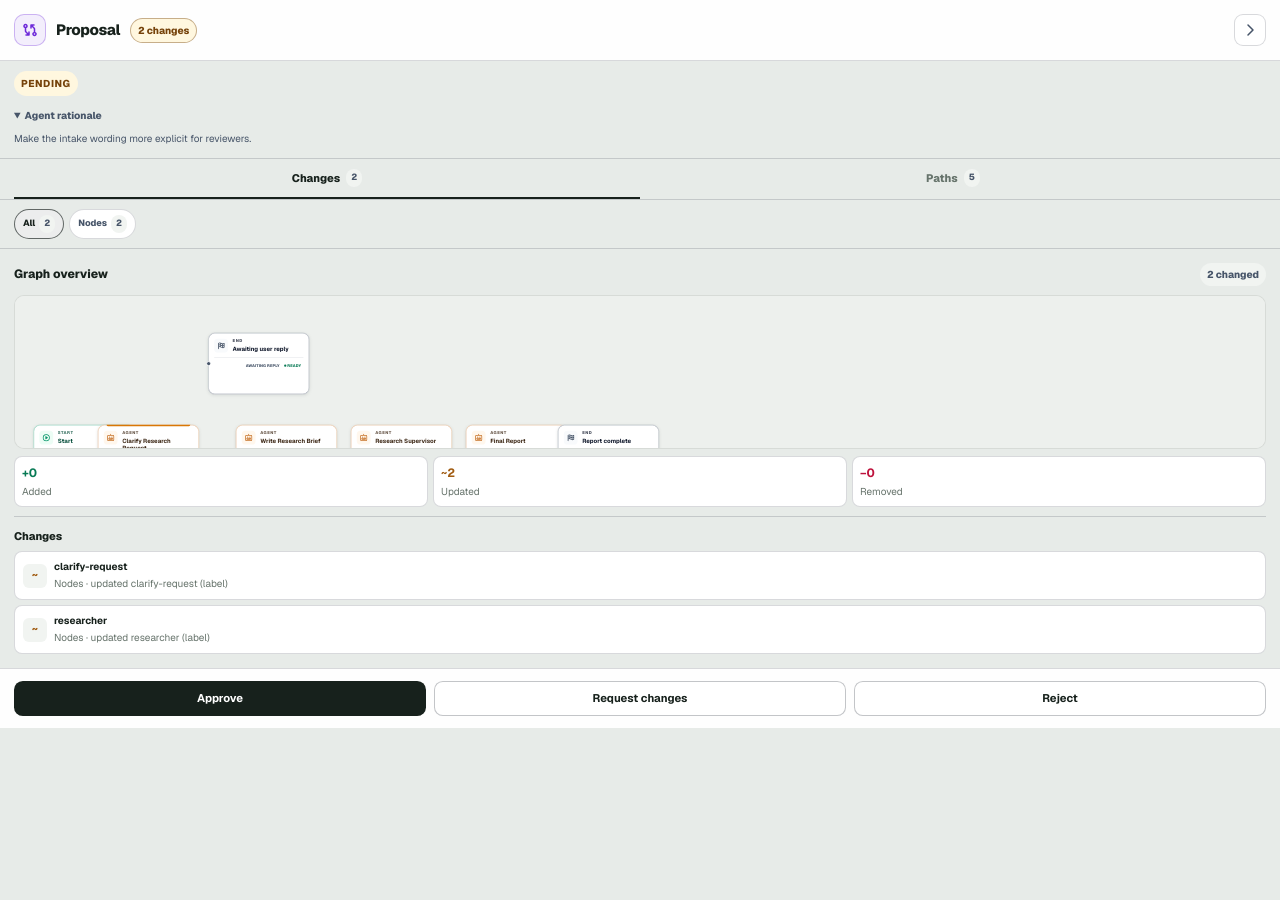
Test: ProposalPanel overview › opens an ordered change detail, presents Before to After, and restores row focus on Back
This screenshot has width=1280, height=900.
Click the button named "Review updated clarify-request" at (91, 567), box x1=14 y1=551 x2=1266 y2=600
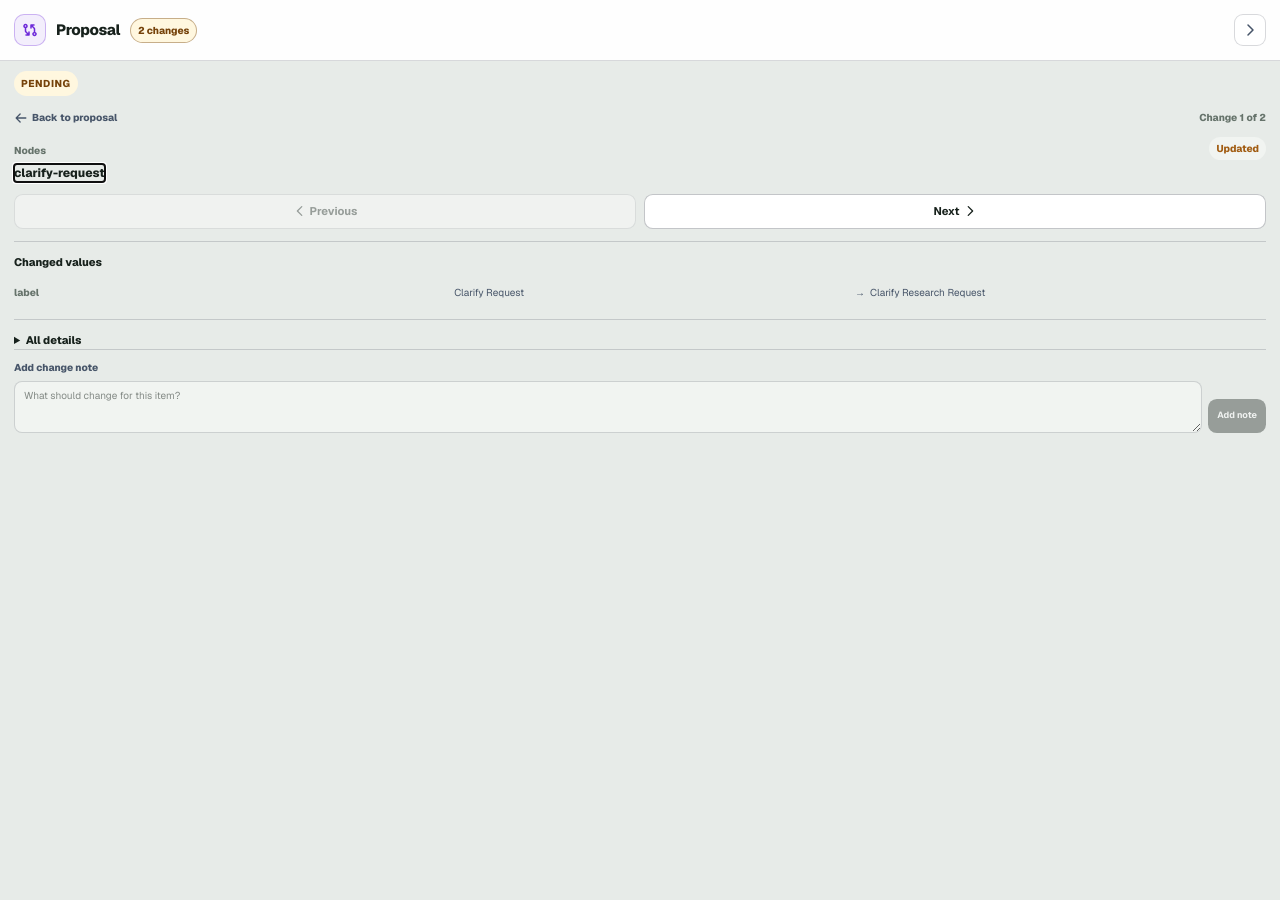
Expected: the text "Change 1 of 2" is shown, x1=1199 y1=110 x2=1266 y2=125
Expected: the element named "Before: Clarify Request. After: Clarify Research Request" is shown, x1=454 y1=286 x2=985 y2=299
Expected: the button "Approve" is gone
Click the button named "Next change" at (955, 211), box x1=644 y1=194 x2=1266 y2=229
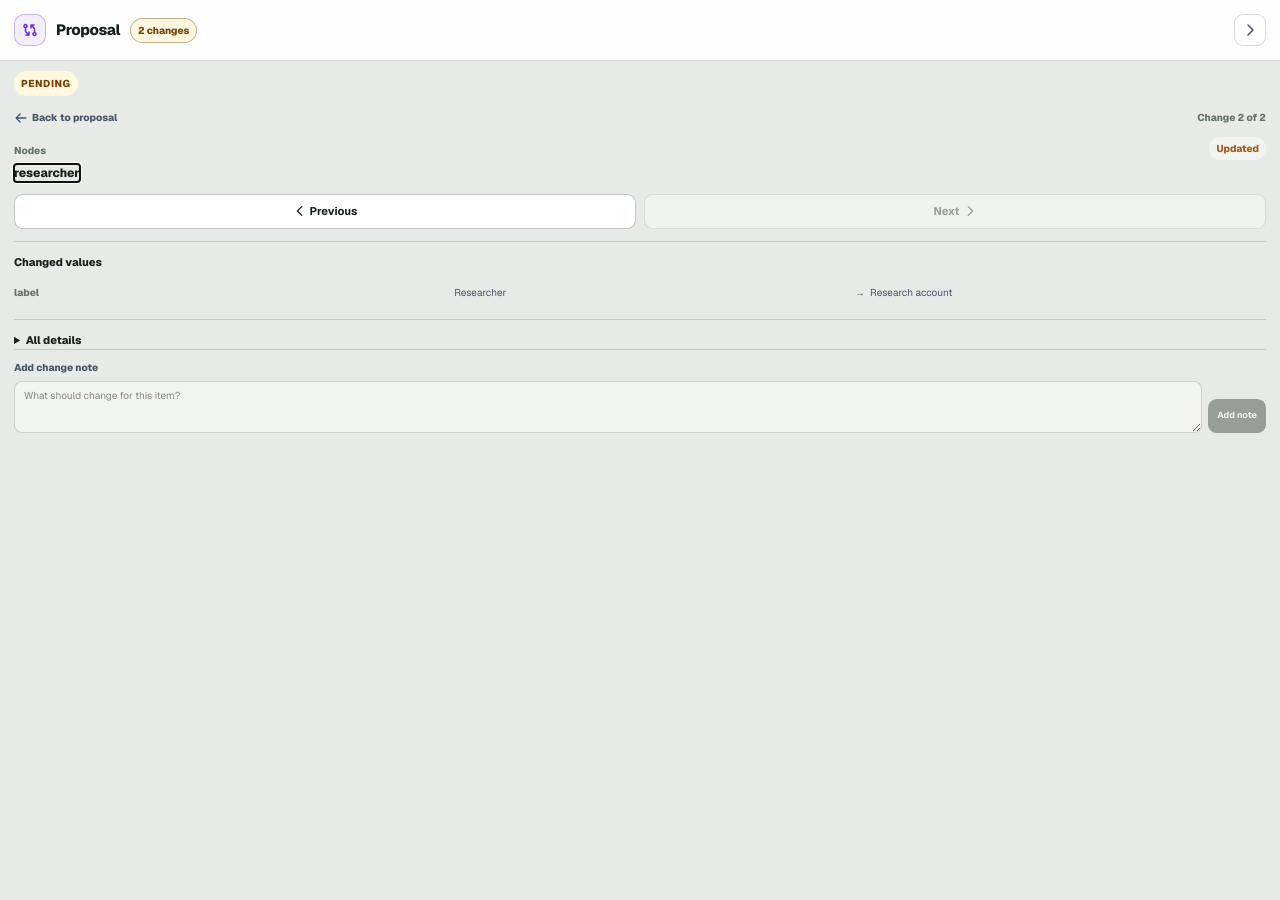
Expected: the heading "researcher" is shown, x1=14 y1=164 x2=80 y2=182
Expected: the button named "Next change" is disabled, x1=644 y1=194 x2=1266 y2=229
Expected: the button named "Previous change" is enabled, x1=14 y1=194 x2=636 y2=229
Click the button "Back to proposal" at (66, 118), box x1=14 y1=110 x2=117 y2=125
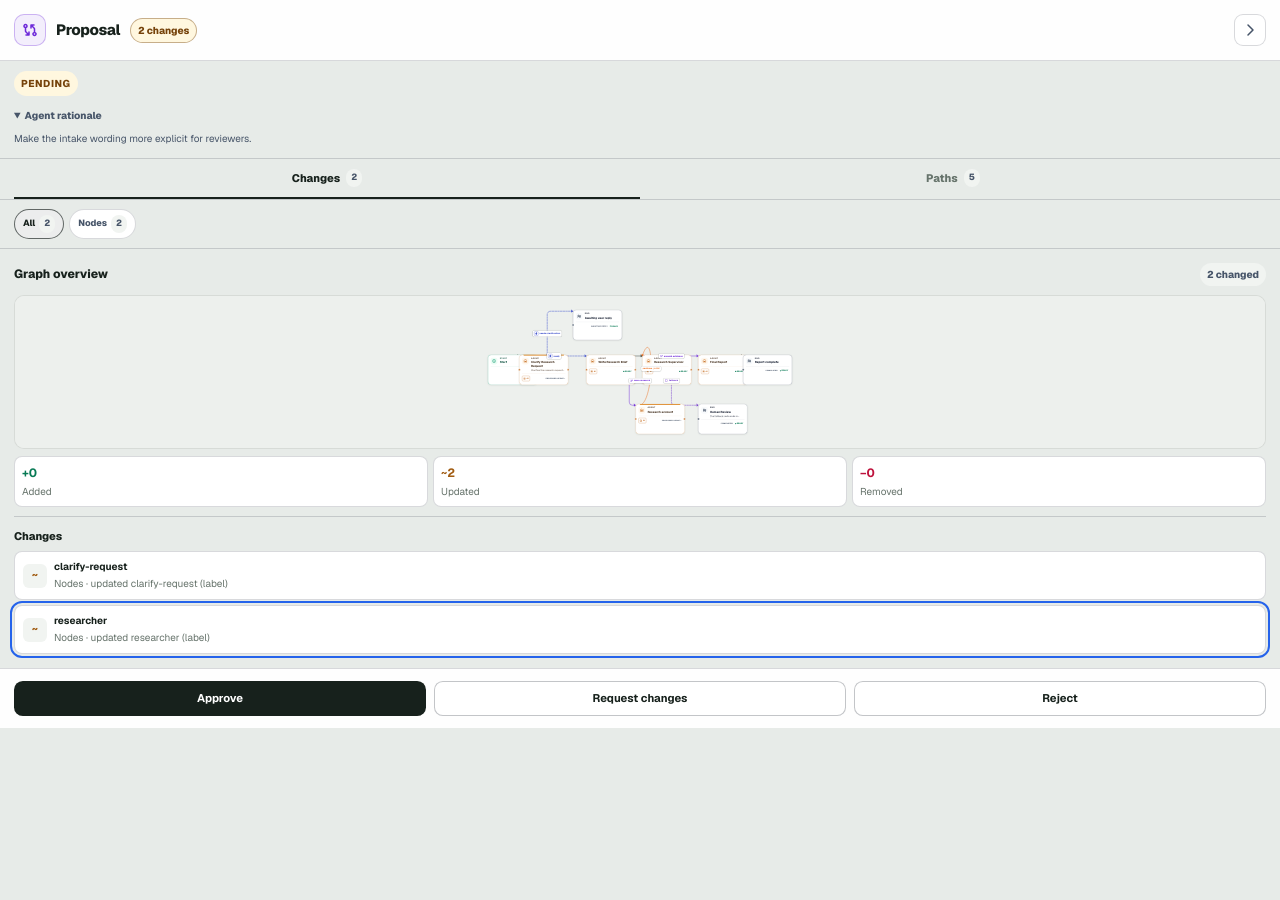
Expected: the heading "Graph overview" is shown, x1=14 y1=264 x2=108 y2=282
Expected: the button "Approve" is shown, x1=14 y1=681 x2=426 y2=716
